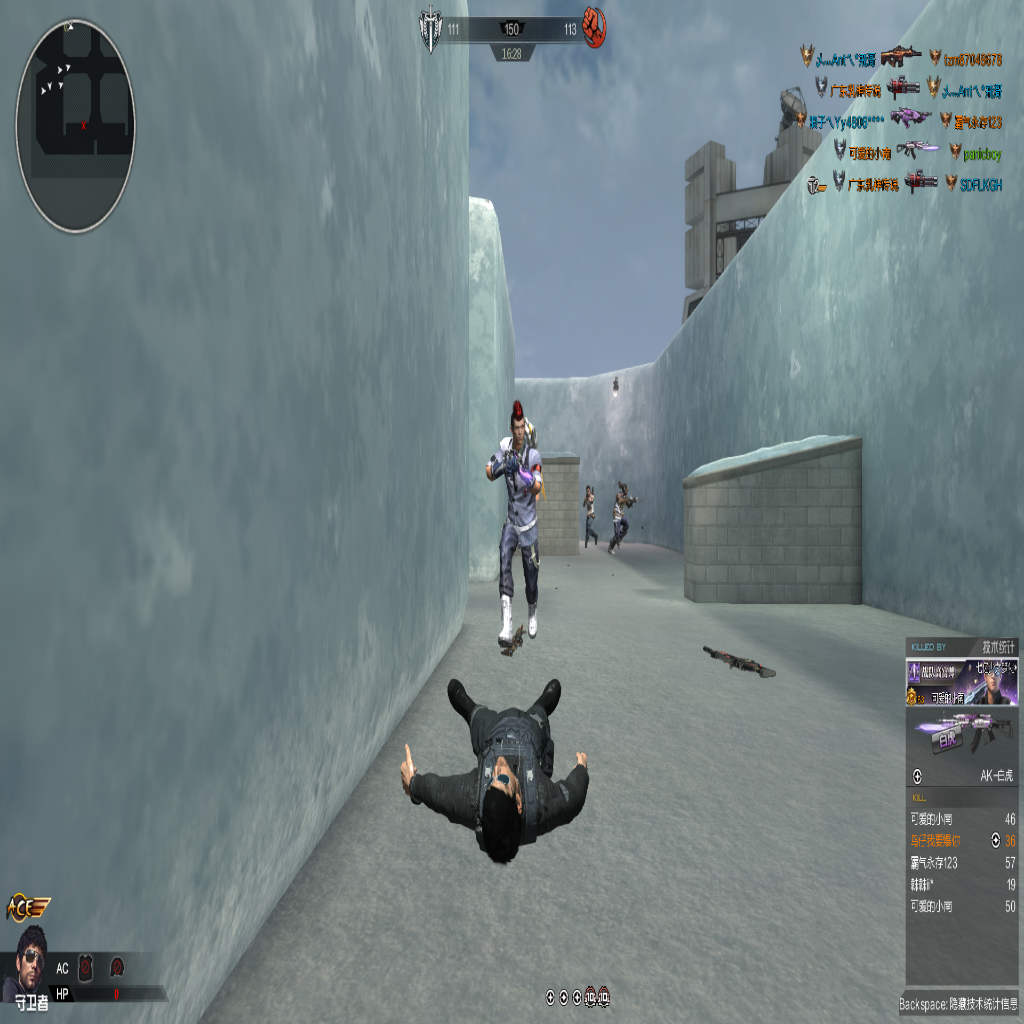tt: (609, 480, 641, 554), (582, 484, 597, 547)
